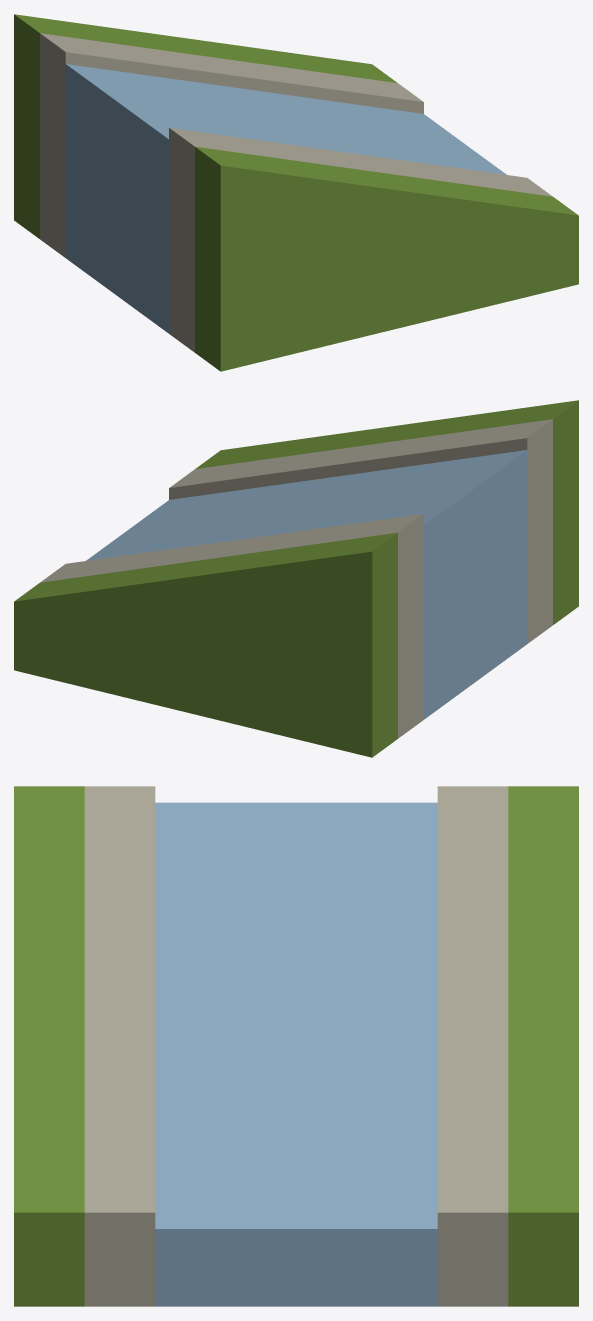
Rendered from roadTile_216.obj.
3 renders of one model, top to bottom at view 1: azimuth 30°, elevation 25°; view 2: azimuth 150°, elevation 25°; view 3: azimuth 270°, elevation 25°, orthographic. The views are drawn at different scales.
Parts seen in each view (by area): view 1: Mesh1_Group1_Model.032; view 2: Mesh1_Group1_Model.032; view 3: Mesh1_Group1_Model.032.
Part boxes in pixels (left/top/right/bottom): Mesh1_Group1_Model.032: left=14, top=14, right=578, bottom=371; Mesh1_Group1_Model.032: left=14, top=400, right=578, bottom=757; Mesh1_Group1_Model.032: left=14, top=786, right=578, bottom=1306.
Bounding box in the file's own units: 3 × 1.65 × 3.
